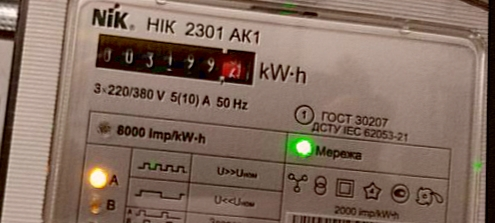0: (100, 43, 113, 62), (123, 44, 134, 63)
1: (165, 46, 174, 65)
3: (144, 48, 153, 68)
6: (227, 64, 237, 80)
9: (205, 54, 215, 73), (185, 50, 194, 68)
screen: (88, 28, 262, 91)
